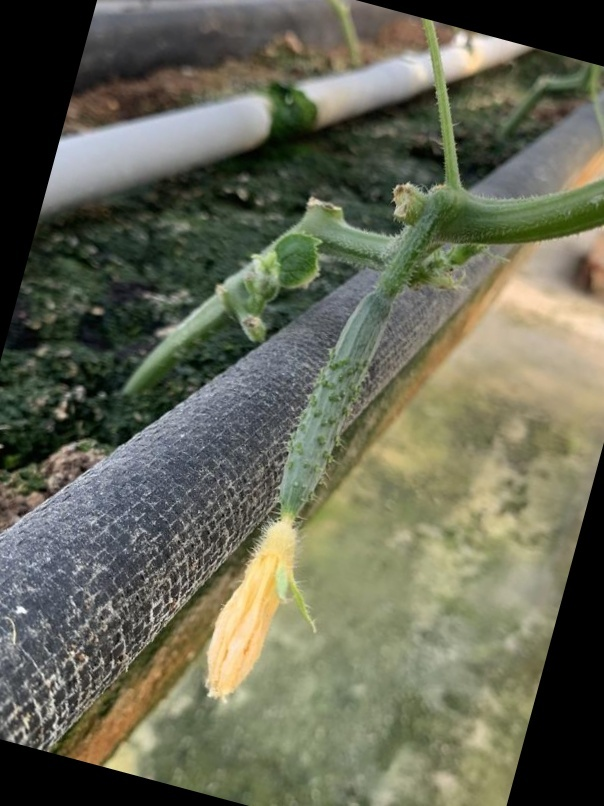bear: (193, 277, 403, 714)
